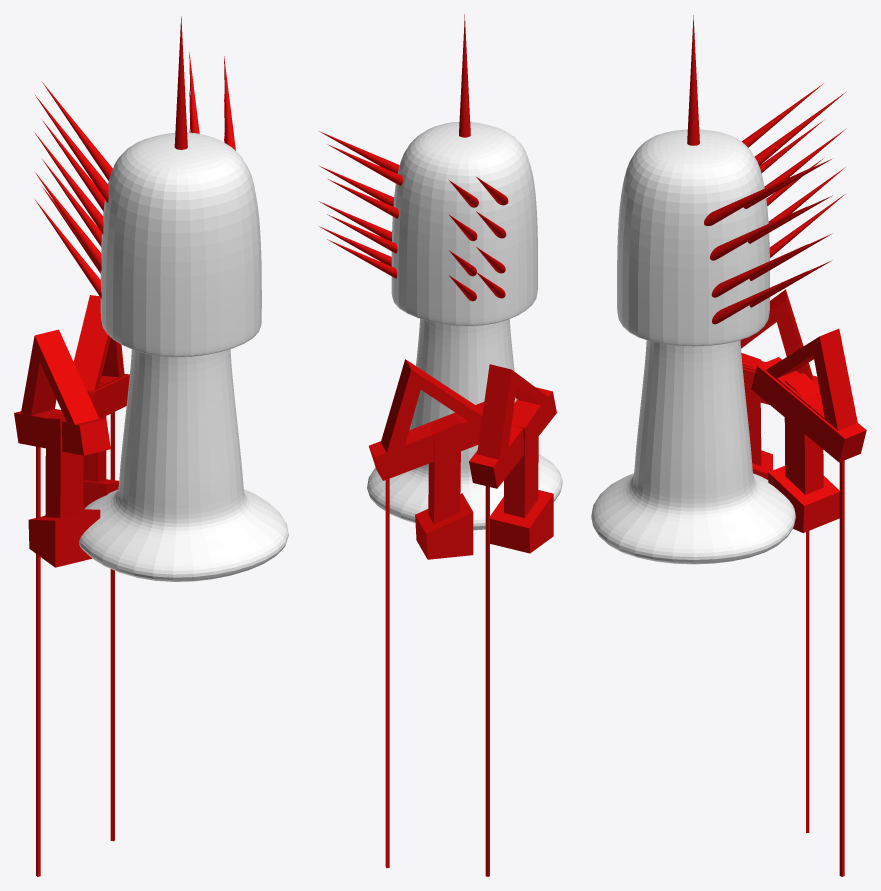
File: Chess_Dominator.fbx
The picture shows the model from 3 angles, left to right: view 1: azimuth 30°, elevation 25°; view 2: azimuth 150°, elevation 25°; view 3: azimuth 270°, elevation 25°; orthographic projection. The views are drawn at different scales.
Parts seen in each view (by area): view 1: Cube; view 2: Cube; view 3: Cube.
Part boxes in pixels (x1,y1,x2,y2): Cube: [14, 16, 288, 876]; Cube: [318, 14, 562, 876]; Cube: [591, 15, 866, 876].
Size of the model in its own units: 96.71 by 381 by 111.
